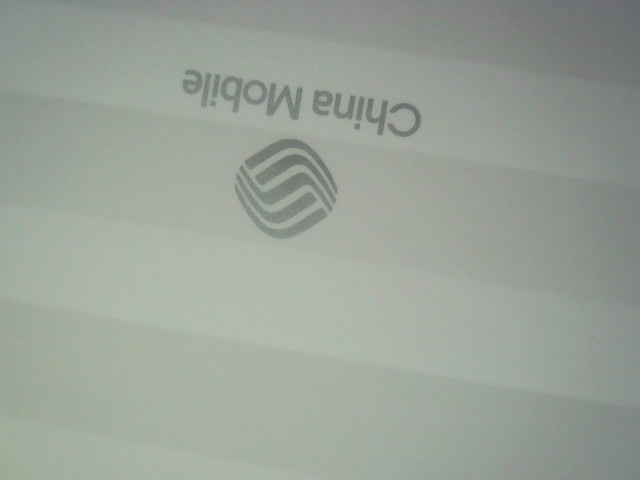AA_ChinaMobile: (164, 62, 447, 245)
